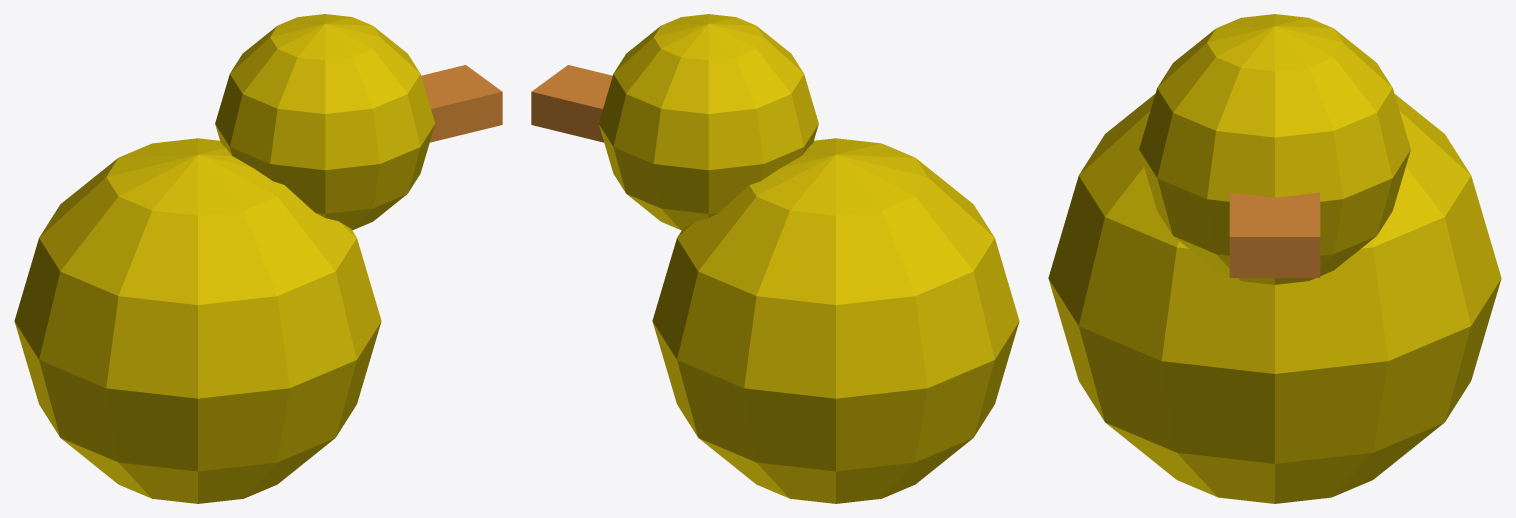
The model's file is duck.glb.
The picture shows the model from 3 angles, left to right: view 1: azimuth 30°, elevation 25°; view 2: azimuth 150°, elevation 25°; view 3: azimuth 270°, elevation 25°; orthographic projection. The views are drawn at different scales.
Visible parts, largest first — view 1: duck; view 2: duck; view 3: duck.
Boxes of the visible parts, box(x1,y1,x2,y2) form: duck: box(14, 14, 502, 503); duck: box(531, 14, 1019, 503); duck: box(1048, 14, 1501, 503).
Size of the model in its own units: 0.14 by 0.13 by 0.1.
